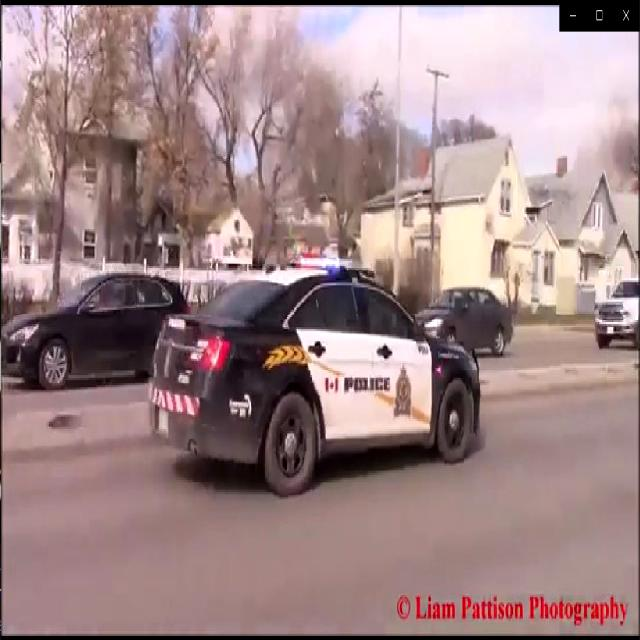emergency: (147, 247, 483, 498)
